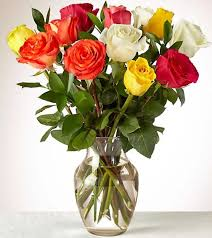lale: (13, 30, 68, 77), (59, 37, 108, 86), (154, 48, 201, 89), (50, 0, 94, 43), (103, 20, 147, 62), (172, 20, 212, 62), (118, 55, 153, 98), (147, 7, 180, 46), (98, 0, 132, 24)
